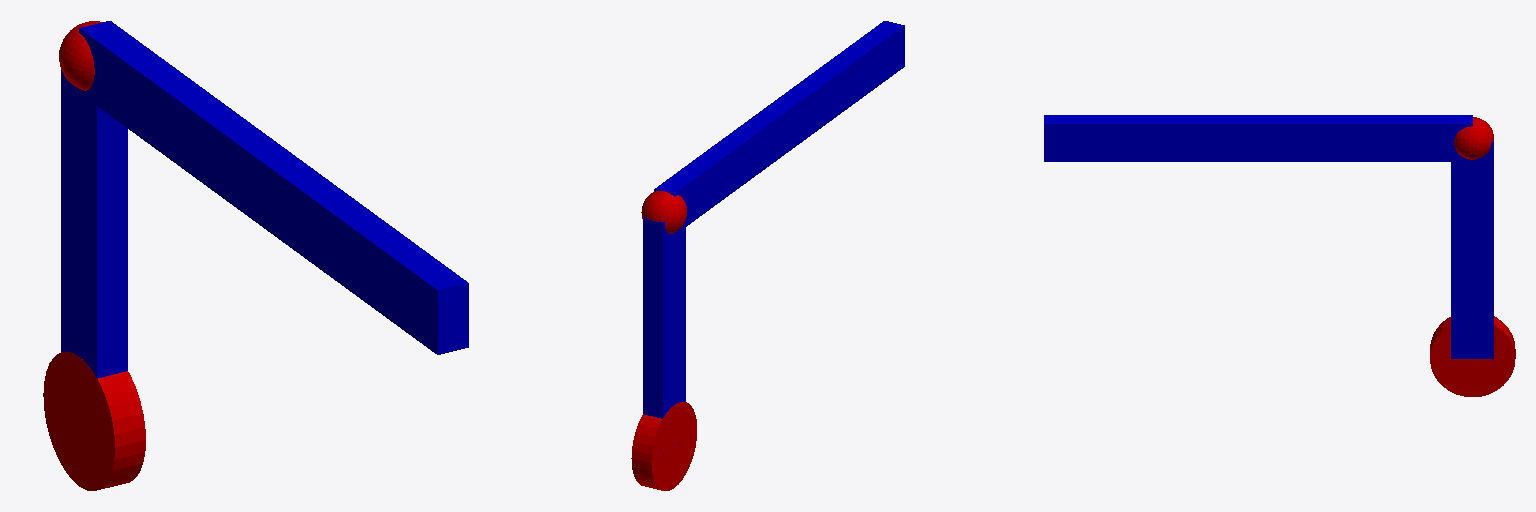
The robot description file, URDF, robot "TwoLinkStruct8072543736":
<?xml version="1.0"?>
<robot  name="TwoLinkStruct8072543736" >
 <material  name="blue" >
  <color  rgba="0 0 0.8 1.0" />
 </material>
 <material  name="red" >
  <color  rgba="0.8 0 0 1.0" />
 </material>
 <link  name="base_link" >
  <visual >
   <origin  rpy="0 1.5707 0"  xyz="0 0 0" />
   <material  name="red" />
   <geometry >
    <cylinder  length="0.05"  radius="0.1" />
   </geometry>
  </visual>
 </link>
 <joint  type="revolute"  name="joint1" >
  <parent  link="base_link" />
  <child  link="link1" />
  <origin  xyz="0 0 0"  rpy="0 0 0" />
  <axis  xyz="1 0 0" />
 </joint>
 <link  name="link1" >
  <inertial >
   <origin  rpy="0 0 0"  xyz="0 0 0.27783477095480424" />
   <mass  value="1.1880677231598549" />
   <inertia  ixy="0.0"  iyy="0.0004950282179832729"  izz="0.03081735201545166"  ixz="0.0"  ixx="0.03081735201545166"  iyz="0.0" />
  </inertial>
  <visual >
   <origin  rpy="0 0 0"  xyz="0 0 0.27783477095480424" />
   <material  name="blue" />
   <geometry >
    <box  size="0.05 0.1 0.5556695419096085" />
   </geometry>
  </visual>
 </link>
 <joint  type="fixed"  name="joint-joint-1" >
  <parent  link="link1" />
  <child  link="joint-link-1" />
  <origin  xyz="0 0 0.5556695419096085"  rpy="1.5707 0 0" />
  <axis  xyz="1 0 0" />
 </joint>
 <link  name="joint-link-1" >
  <inertial >
   <origin  rpy="0 0 0"  xyz="0 0 0" />
   <mass  value="2.592423326796881" />
   <inertia  ixy="0"  iyy="0"  izz="0"  ixz="0"  ixx="0"  iyz="0" />
  </inertial>
  <visual >
   <origin  rpy="0 0 0"  xyz="0 0 0" />
   <material  name="red" />
   <geometry >
    <sphere  radius="0.05" />
   </geometry>
  </visual>
 </link>
 <joint  type="revolute"  name="joint2" >
  <parent  link="link1" />
  <child  link="link2" />
  <origin  xyz="0 0 0.5556695419096085"  rpy="1.5707 0 0" />
  <axis  xyz="1 0 0" />
 </joint>
 <link  name="link2" >
  <inertial >
   <origin  rpy="0 0 0"  xyz="0 0 0.5" />
   <mass  value="3.6191020011901855" />
   <inertia  ixy="0.0"  iyy="0.0004950282179832729"  izz="0.09925315770564619"  ixz="0.0"  ixx="0.09925315770564619"  iyz="0.0" />
  </inertial>
  <visual >
   <origin  rpy="0 0 0"  xyz="0 0 0.5" />
   <material  name="blue" />
   <geometry >
    <box  size="0.05 0.1 1.0" />
   </geometry>
  </visual>
 </link>
 <joint  type="fixed"  name="eef_joint" >
  <parent  link="link2" />
  <child  link="eef" />
  <origin  xyz="0 0 1.0"  rpy="0 0 0" />
 </joint>
 <link  name="eef" >
  <inertial >
   <origin  rpy="0 0 0"  xyz="0 0 0" />
   <mass  value="1" />
   <inertia  ixy="0"  iyy="0"  izz="0"  ixz="0"  ixx="0"  iyz="0" />
  </inertial>
 </link>
 <transmission  name="motor1" >
  <type  xmltext="SimpleTransmission" >
   SimpleTransmission
  </type>
  <actuator  name="motor1" >
   <mechanicalreduction  xmltext="1" >
    1
   </mechanicalreduction>
  </actuator>
  <joint  name="joint1" />
 </transmission>
 <transmission  name="motor2" >
  <type  xmltext="SimpleTransmission" >
   SimpleTransmission
  </type>
  <actuator  name="motor2" >
   <mechanicalreduction  xmltext="1" >
    1
   </mechanicalreduction>
  </actuator>
  <joint  name="joint2" />
 </transmission>
</robot>

<!-- {'carti': array([-0.1 ,  0.14,  0.85]), 'cartd': array([-0.1 ,  0.32,  1.29]), 'tau_mu': 0.5766446641239391, 'b0': 0.2840072892831971, 'Km': 5.0, 'k_velocity': 65.48902090783528, 'tau_max_m': 3.761992552964221, 'omega_max_m': 1000.0, 'gear_ratio': 25.0, 'Kp': 42.1065430754264, 'Kd': 9.079593677689708, 'm_m': 2.592423326796881, 'l1': 0.5556695419096085, 'l2': 1.0, 'k1': 7654.489054372989, 'k2': 115616857.37918535, 'k3': 56864328.19132221}-->

--- What the picture shows (computed from the rendered views, not written in the file) ---
3 views of the same robot in one strip: view 1: azimuth 30°, elevation 25°; view 2: azimuth 150°, elevation 25°; view 3: azimuth 270°, elevation 25° (orthographic).
Robot: TwoLinkStruct8072543736 — 5 links, 4 joints (2 revolute, 2 fixed); root link base_link; default pose: every joint at zero.
Links seen in each view (by area): view 1: link2, link1, base_link, joint-link-1; view 2: link2, link1, base_link, joint-link-1; view 3: link2, link1, base_link, joint-link-1.
Link boxes in pixels (x1,y1,x2,y2): link2: [79, 21, 468, 354]; link1: [61, 70, 127, 378]; base_link: [43, 351, 145, 490]; joint-link-1: [59, 21, 101, 90]; link2: [654, 21, 904, 234]; link1: [643, 217, 685, 454]; base_link: [631, 402, 696, 490]; joint-link-1: [641, 191, 686, 233]; link2: [1044, 115, 1472, 161]; link1: [1451, 141, 1493, 358]; base_link: [1430, 316, 1515, 396]; joint-link-1: [1454, 117, 1493, 159].
Size in the robot's own frame: 0.1 by 1.1 by 0.7058 metres.
Geometry: primitives only (box / cylinder / sphere), no mesh files.
